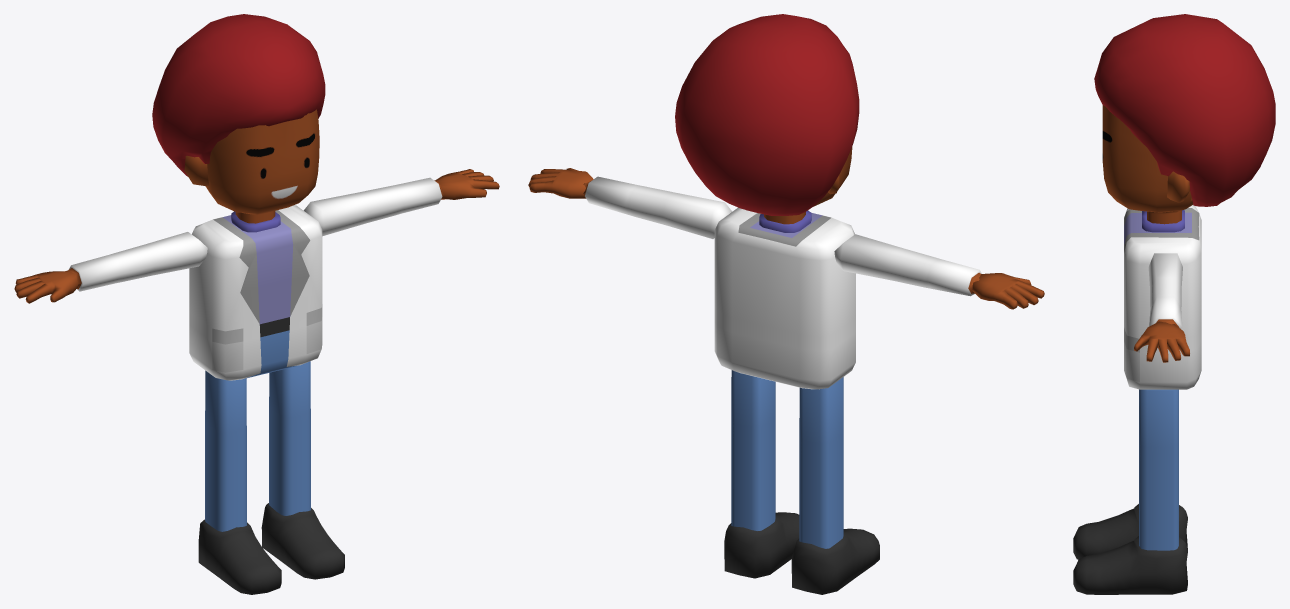
Rendered from NPC_Yellow01_RedHair01.gltf.
The picture shows the model from 3 angles, left to right: view 1: azimuth 30°, elevation 25°; view 2: azimuth 150°, elevation 25°; view 3: azimuth 270°, elevation 25°; orthographic projection. The views are drawn at different scales.
Visible parts, largest first — view 1: NPC_Corpo_Yellow1_RedHair.001; view 2: NPC_Corpo_Yellow1_RedHair.001; view 3: NPC_Corpo_Yellow1_RedHair.001.
Boxes of the visible parts, x1,y1,x2,y2 form: NPC_Corpo_Yellow1_RedHair.001: (14,14,499,594); NPC_Corpo_Yellow1_RedHair.001: (528,14,1044,594); NPC_Corpo_Yellow1_RedHair.001: (1073,14,1275,594).
Bounding box in the file's own units: 2.31 × 2.41 × 0.8168.
1 material, 1 textured.
